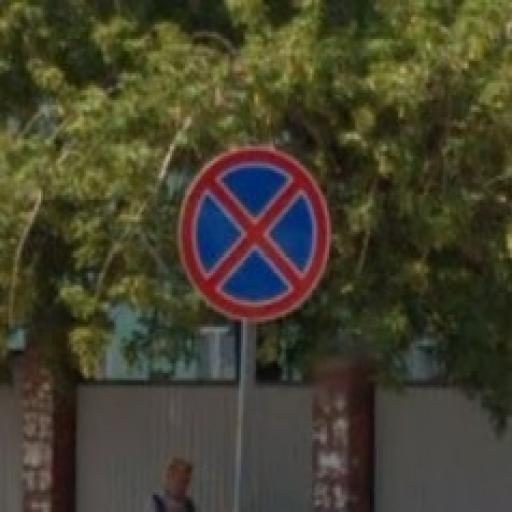traffic_sign: (180, 145, 332, 323)
